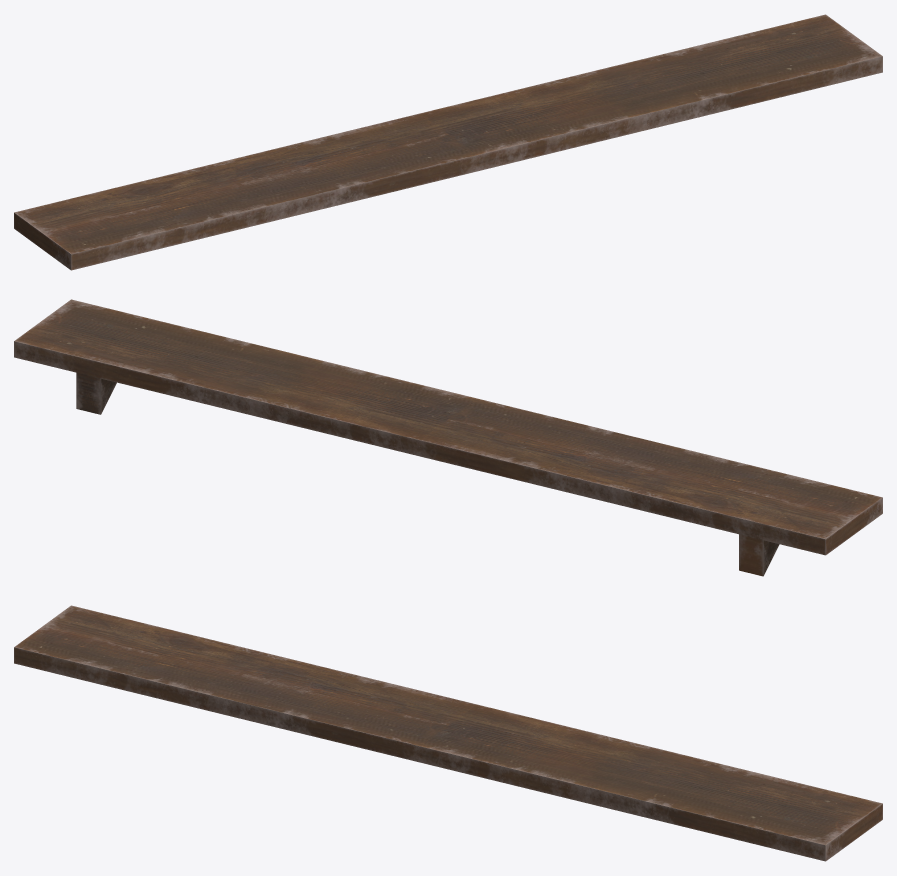
File: single_wood_shelf.glb
The picture shows the model from 3 angles, top to bottom: view 1: azimuth 30°, elevation 25°; view 2: azimuth 150°, elevation 25°; view 3: azimuth 330°, elevation 25°; orthographic projection.
Visible parts, largest first — view 1: SM_shelf.003_0; view 2: SM_shelf.003_0; view 3: SM_shelf.003_0.
Part boxes in pixels (x1,y1,x2,y2): SM_shelf.003_0: [14, 14, 882, 270]; SM_shelf.003_0: [14, 299, 882, 576]; SM_shelf.003_0: [14, 605, 882, 861].
Bounding box in the file's own units: 1.71 × 0.1054 × 0.2084.
1 material, 1 textured.
